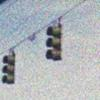traffic lights: (44, 26, 63, 63), (0, 52, 18, 86)
